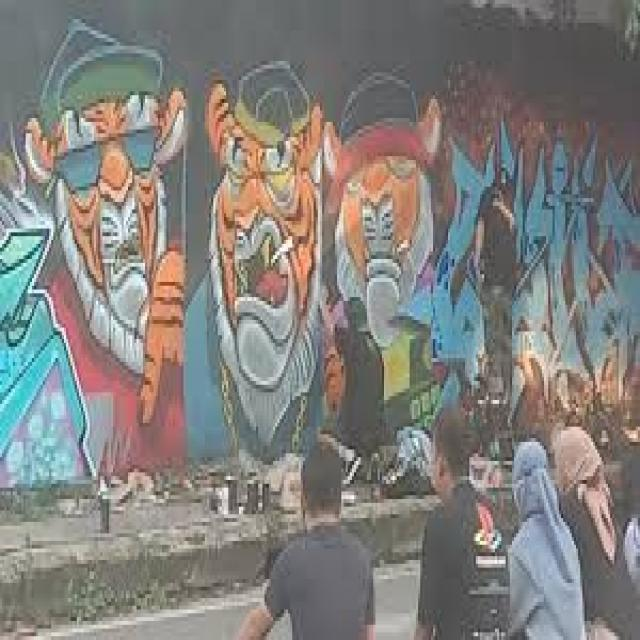-: (189, 58, 442, 458), (0, 11, 183, 476), (439, 116, 640, 423)
